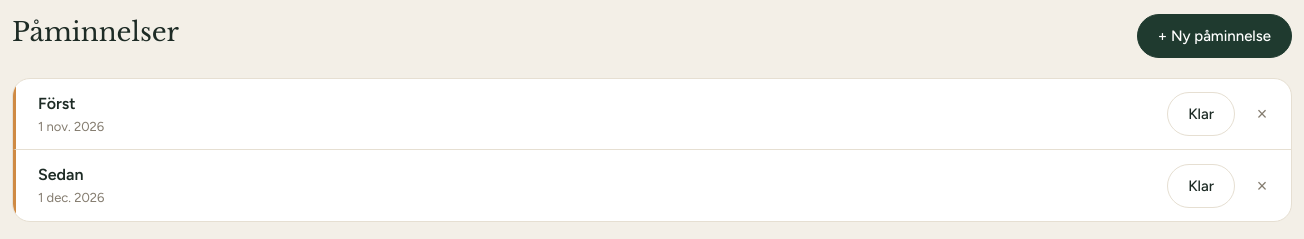
Test: ReminderSection › marks a reminder as done and moves it after the active ones
Expected: the text "Först" is shown, [38,94,76,113]
What coordinates should you click on to do the following:
click the button "Klar" in the row of "Först"
I would click on:
 (1201, 114)
Its box is [1167,92,1235,136].
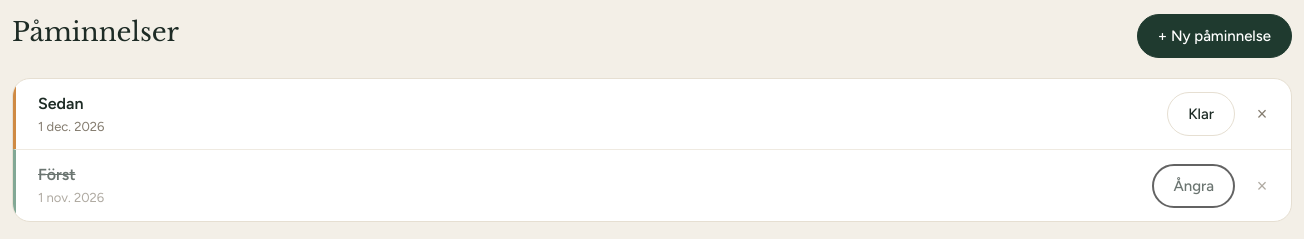
Expected: the list item "Först 1 nov. 2026 Ångra ×" is shown, [13,149,1291,221]
Result: the button "Ångra" is shown at [1152,164,1235,208]
